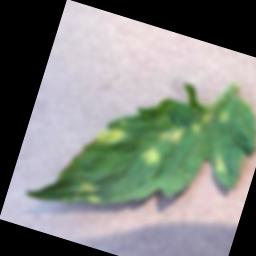Leaf_Mold: (92, 122, 128, 152), (74, 177, 104, 206), (156, 120, 185, 148), (189, 108, 213, 136), (136, 143, 162, 168), (212, 155, 228, 175), (218, 109, 231, 124)
